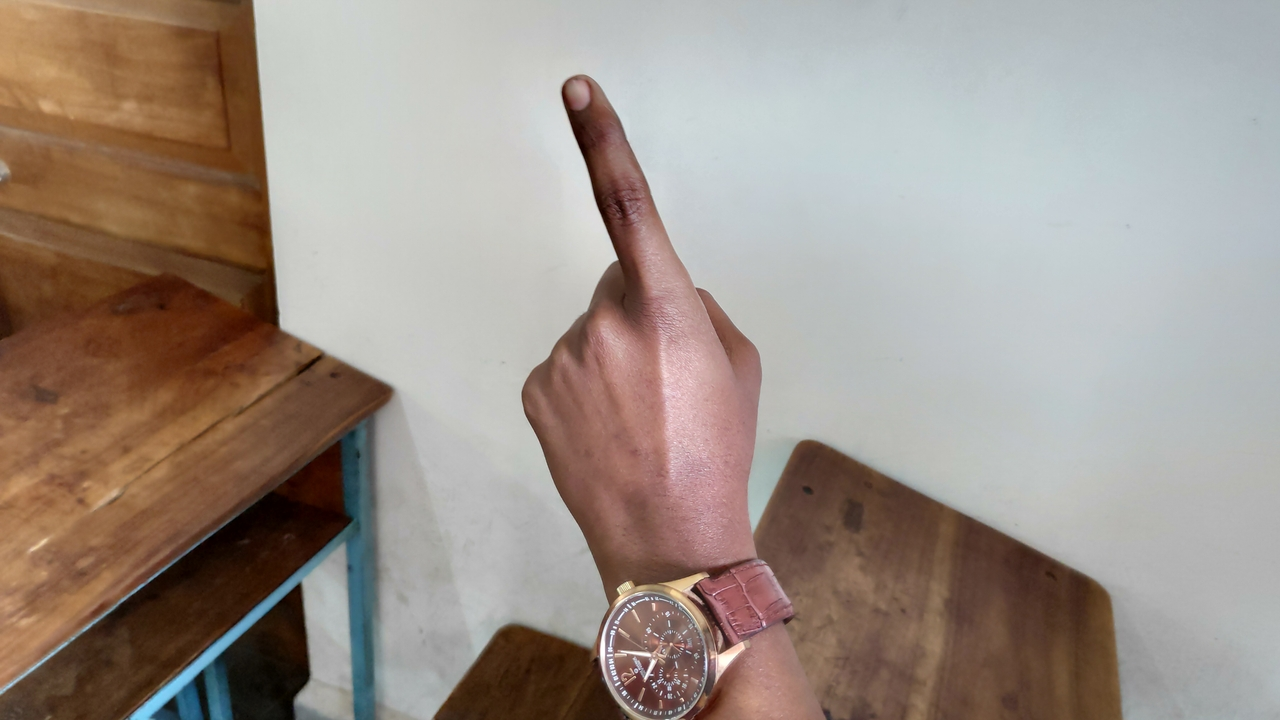fingertip: (552, 66, 616, 118)
